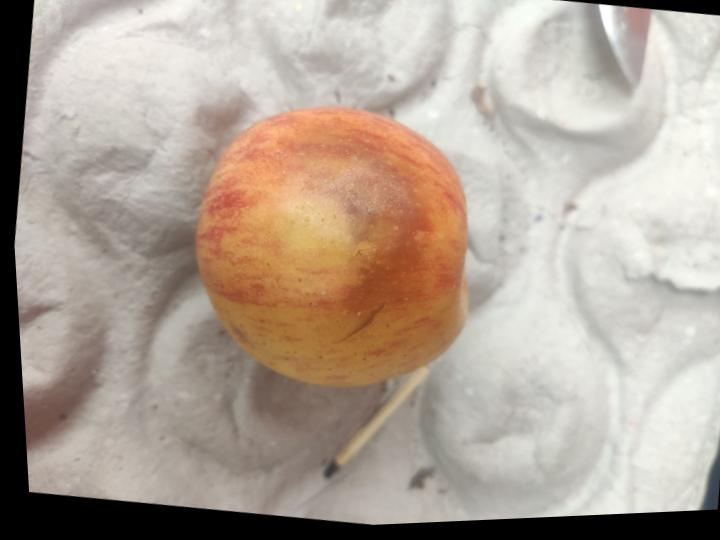apple: (196, 109, 468, 386)
bruise_discoloration: (281, 158, 415, 246)
surface_damage: (334, 305, 383, 344)
